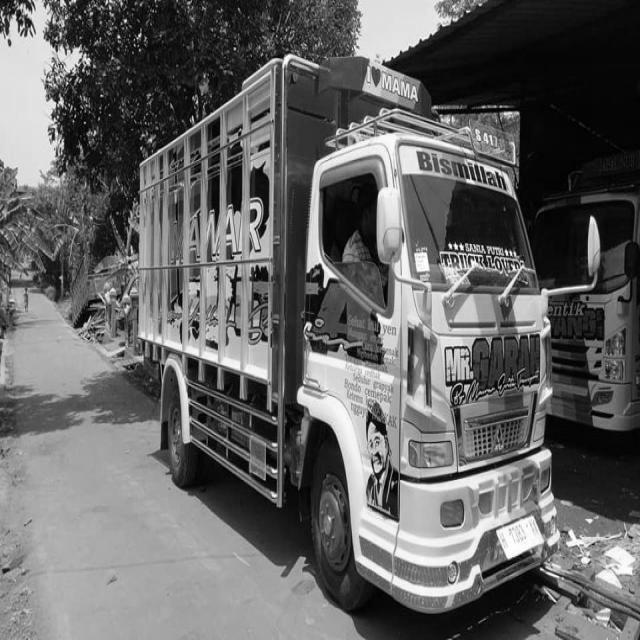truck: (269, 88, 601, 628)
